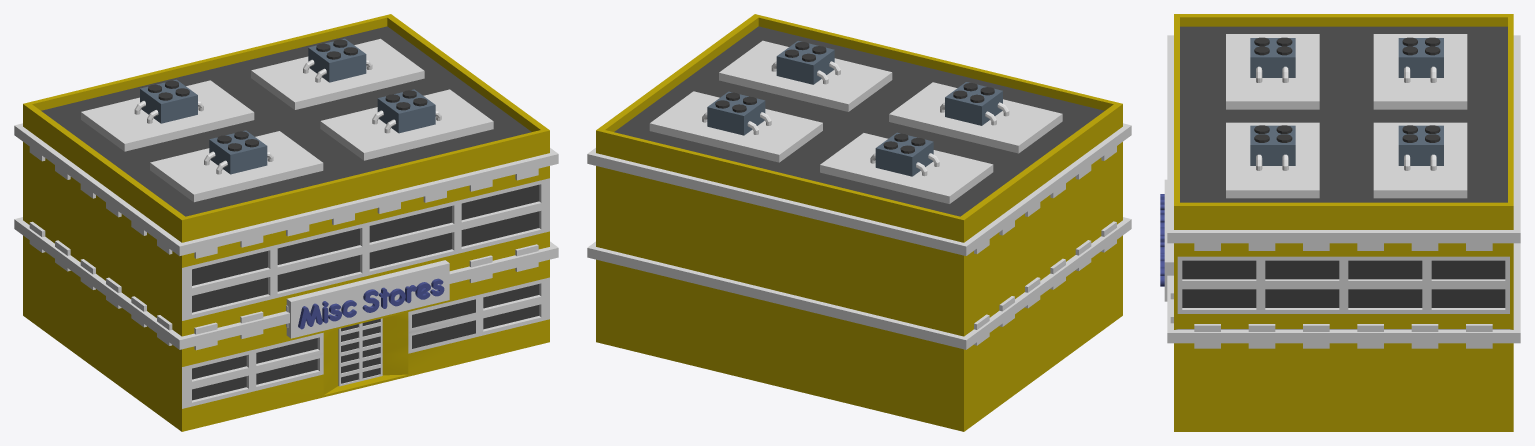
The model's file is 14 Misc_store.fbx.
The picture shows the model from 3 angles, left to right: view 1: azimuth 30°, elevation 25°; view 2: azimuth 150°, elevation 25°; view 3: azimuth 270°, elevation 25°; orthographic projection. The views are drawn at different scales.
Visible parts, largest first — view 1: Misc_store; view 2: Misc_store; view 3: Misc_store.
Part boxes in pixels (x1,y1,x2,y2): Misc_store: (14, 14, 558, 431); Misc_store: (587, 14, 1131, 431); Misc_store: (1160, 14, 1520, 431).
Bounding box in the file's own units: 239 × 140 × 184.
